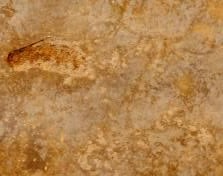Corrosion: (6, 42, 78, 68)
Spalling: (5, 38, 91, 76)
